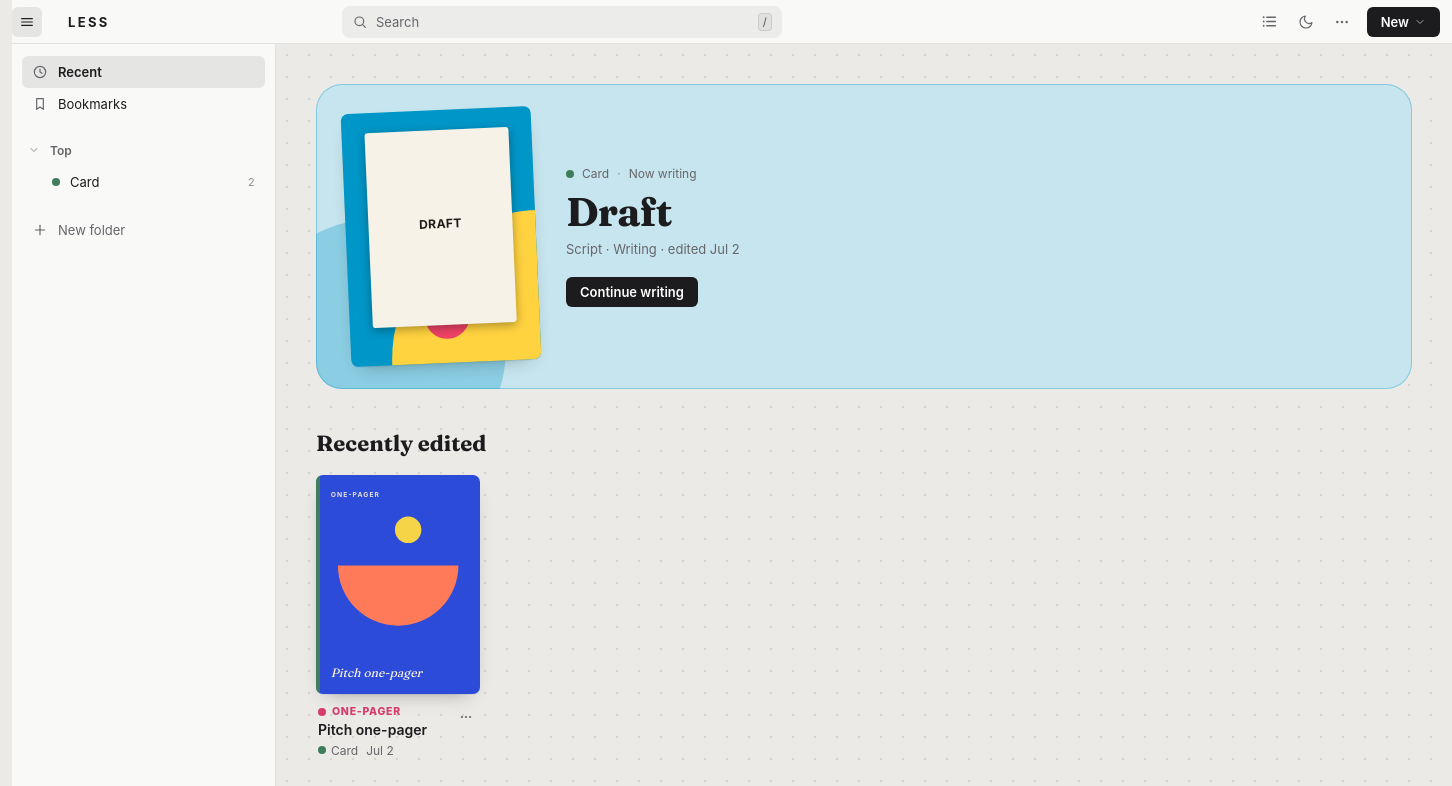
ProjectsHome desk › shows covers by default, each labeled with what it is
Click the button with class "lib-project" at coordinates (56, 182), box [52, 174, 255, 190]
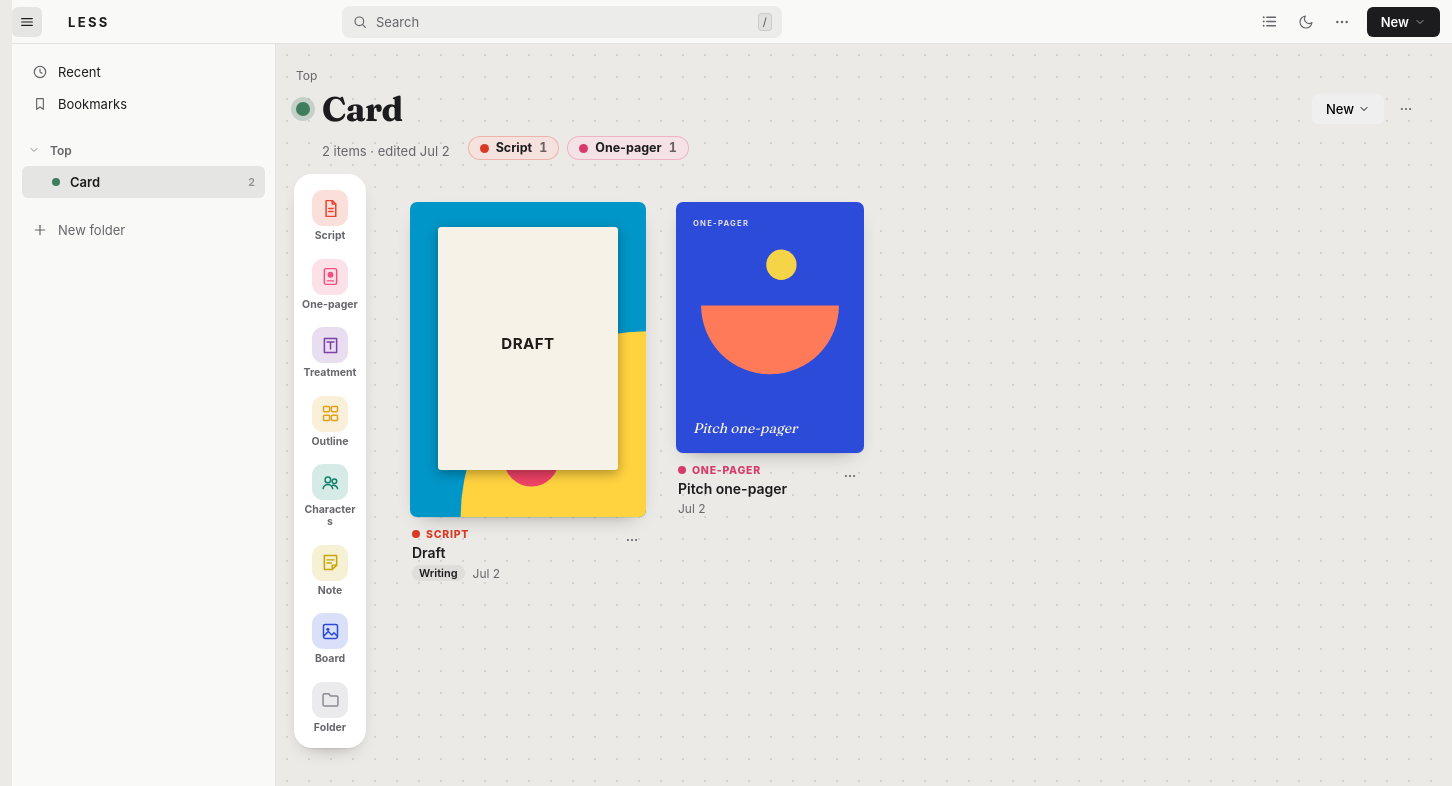
Expected: the 3rd text with class "dk-kind" reads "One-pager", [692, 464, 761, 477]
Expected: the 2nd text with class "dk-kind" reads "Script", [426, 528, 469, 541]
